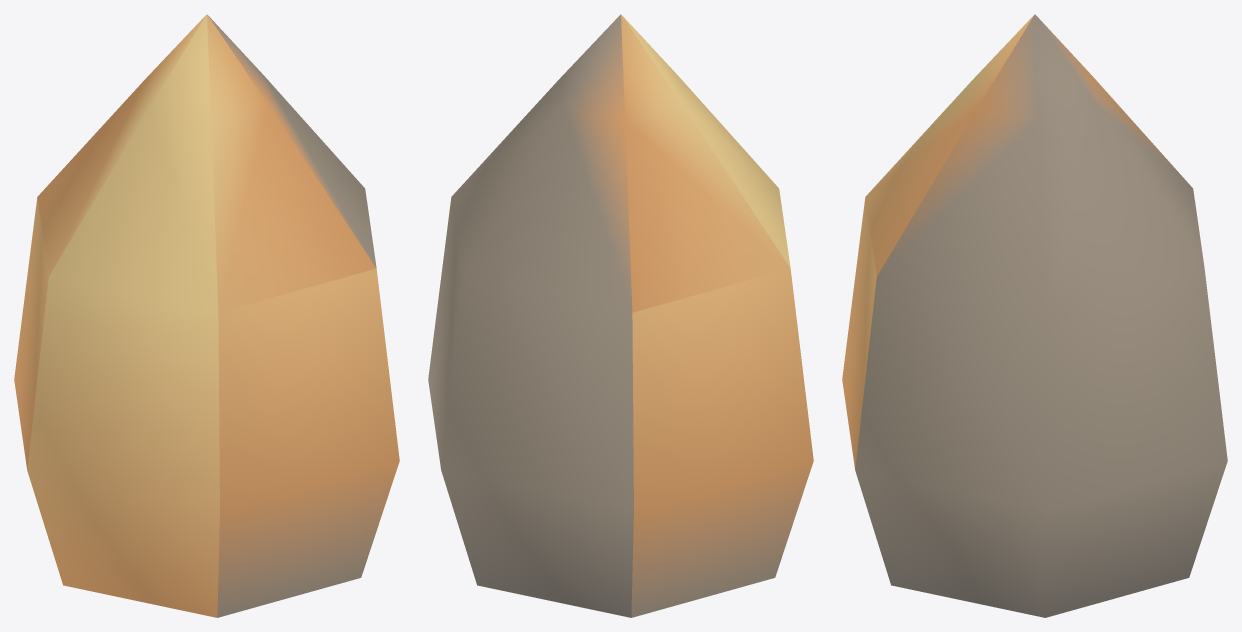
The model's file is wprop.sacks__one.glb.
The picture shows the model from 3 angles, left to right: view 1: azimuth 30°, elevation 25°; view 2: azimuth 150°, elevation 25°; view 3: azimuth 270°, elevation 25°; orthographic projection.
Visible parts, largest first — view 1: kit_sacks; view 2: kit_sacks; view 3: kit_sacks.
Part boxes in pixels (x1,y1,x2,y2): kit_sacks: (14, 14, 399, 617); kit_sacks: (428, 14, 813, 617); kit_sacks: (842, 14, 1227, 617).
Bounding box in the file's own units: 0.4991 × 0.68 × 0.4473.
Materials: 1 (1 with a texture image).
